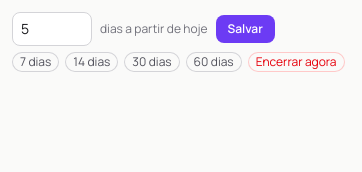
Test: TrialSetter › trava o botão com valor vazio, negativo, decimal ou acima de 365
The width and height of the screenshot is (362, 172).
Clear the number field named "dias de teste a partir de hoje". click: coordinates (52, 29)
box: top-left (12, 12), bottom-right (92, 46)
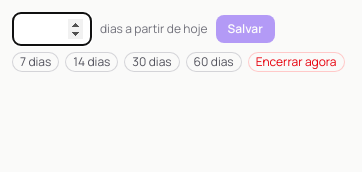
Now the button "Salvar" is disabled, box top-left (216, 15), bottom-right (275, 43)
Type "-1" into the number field named "dias de teste a partir de hoje". click: coordinates (52, 29)
box: top-left (12, 12), bottom-right (92, 46)
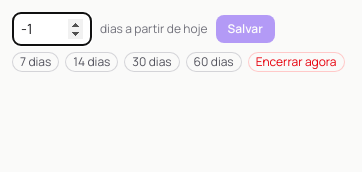
Now the button "Salvar" is disabled, box top-left (216, 15), bottom-right (275, 43)
Replace the text in the number field named "dias de teste a partir de hoje" with "1.5". click: coordinates (52, 29)
box: top-left (12, 12), bottom-right (92, 46)
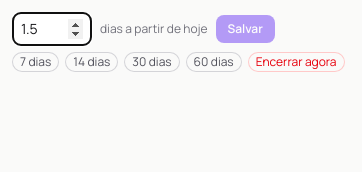
Now the button "Salvar" is disabled, box top-left (216, 15), bottom-right (275, 43)
Replace the text in the number field named "dias de teste a partir de hoje" with "366". click: coordinates (52, 29)
box: top-left (12, 12), bottom-right (92, 46)
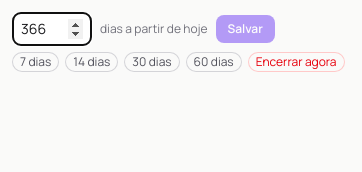
Now the button "Salvar" is disabled, box top-left (216, 15), bottom-right (275, 43)
Replace the text in the number field named "dias de teste a partir de hoje" with "365". click: coordinates (52, 29)
box: top-left (12, 12), bottom-right (92, 46)
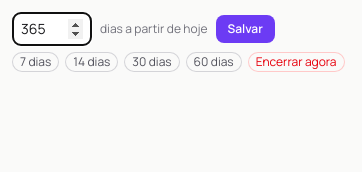
Now the button "Salvar" is enabled, box top-left (216, 15), bottom-right (275, 43)
